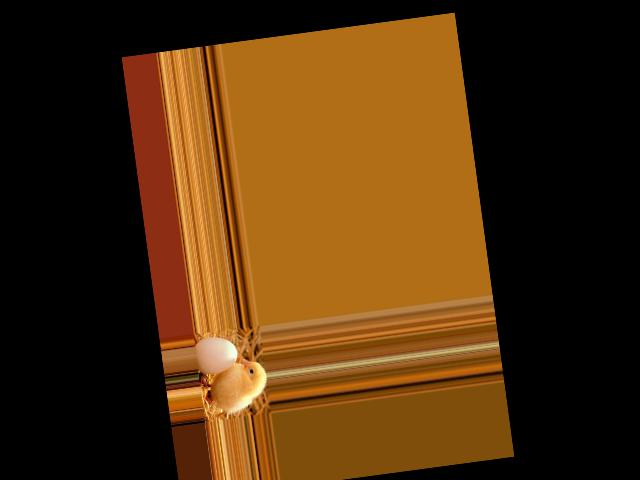egg: (193, 334, 239, 376)
